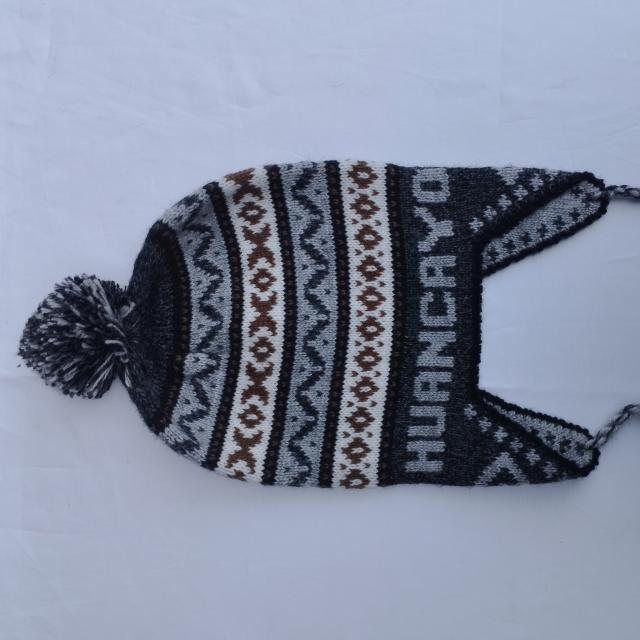Gorro: (17, 158, 638, 490)
